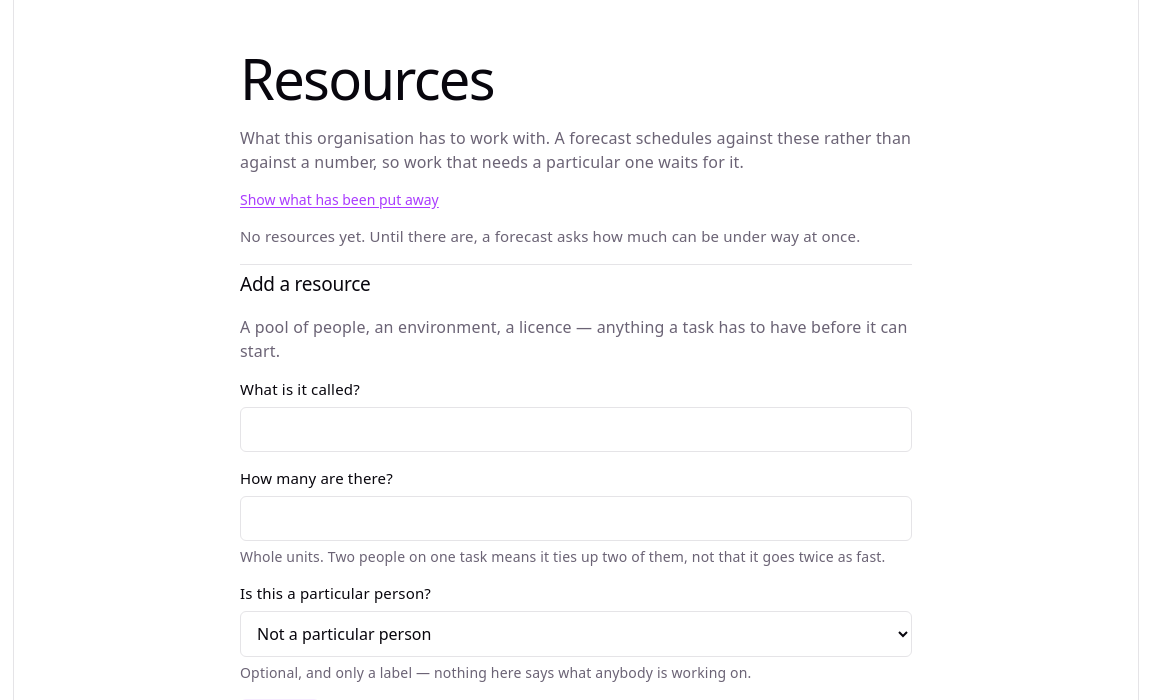
Test: ResourcesPage › shows what has been put away when asked
Expected: the heading "Resources" is shown, left=240, top=40, right=494, bottom=116
Click the button "Show what has been put away". click: (339, 200)
box: left=240, top=190, right=439, bottom=210
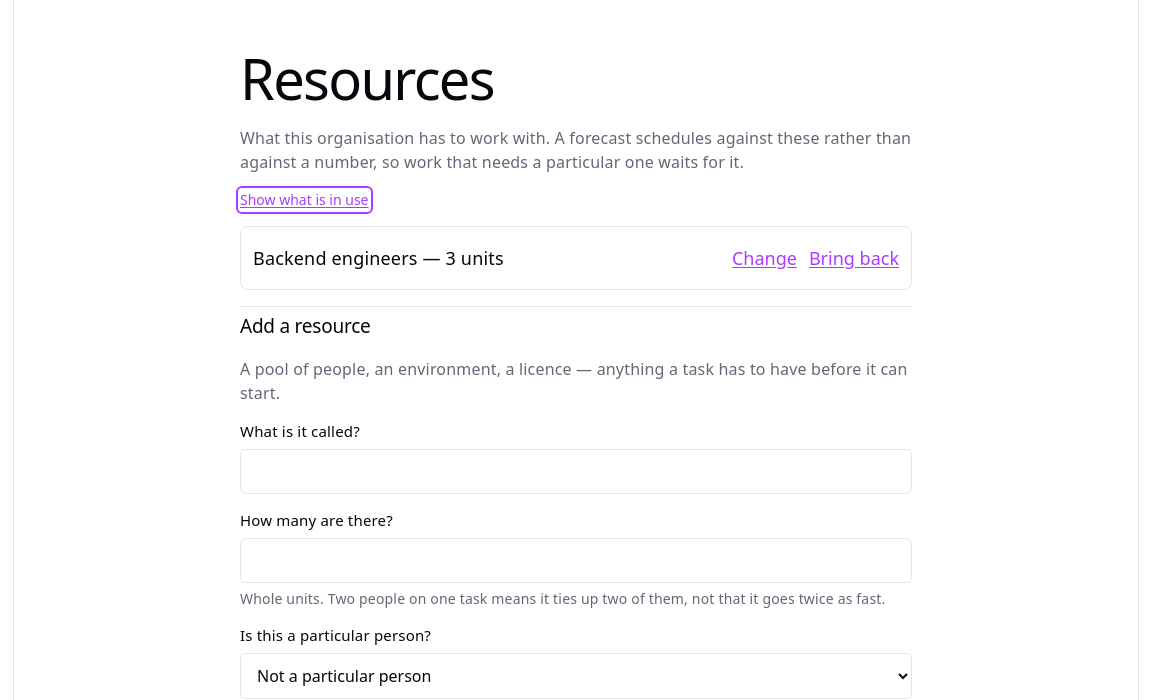
Now the text "Backend engineers — 3 units" is shown, box left=253, top=246, right=504, bottom=270
Now the button "Bring back" is shown, box left=809, top=239, right=899, bottom=277
